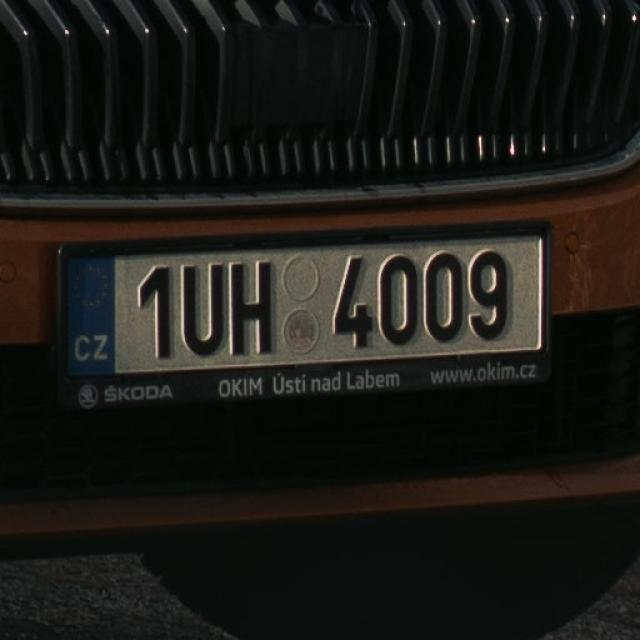licenseplate: (41, 231, 568, 402)
